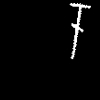double_crochet: (70, 3, 90, 58)
